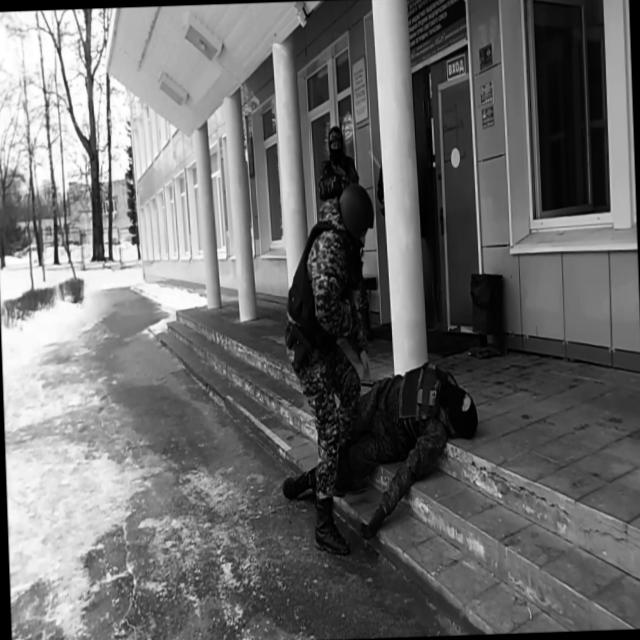gun: (285, 323, 313, 374), (327, 154, 352, 194)
person: (279, 359, 483, 542)
person with a gun: (279, 178, 386, 556), (314, 120, 373, 345)
